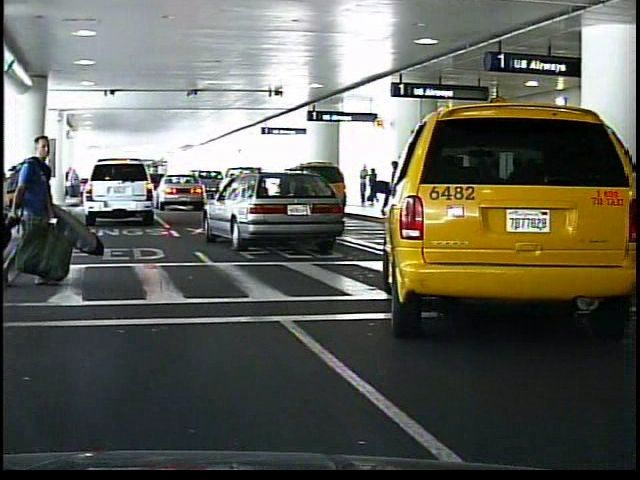person: (15, 128, 68, 295), (367, 165, 378, 207), (357, 165, 368, 204)
